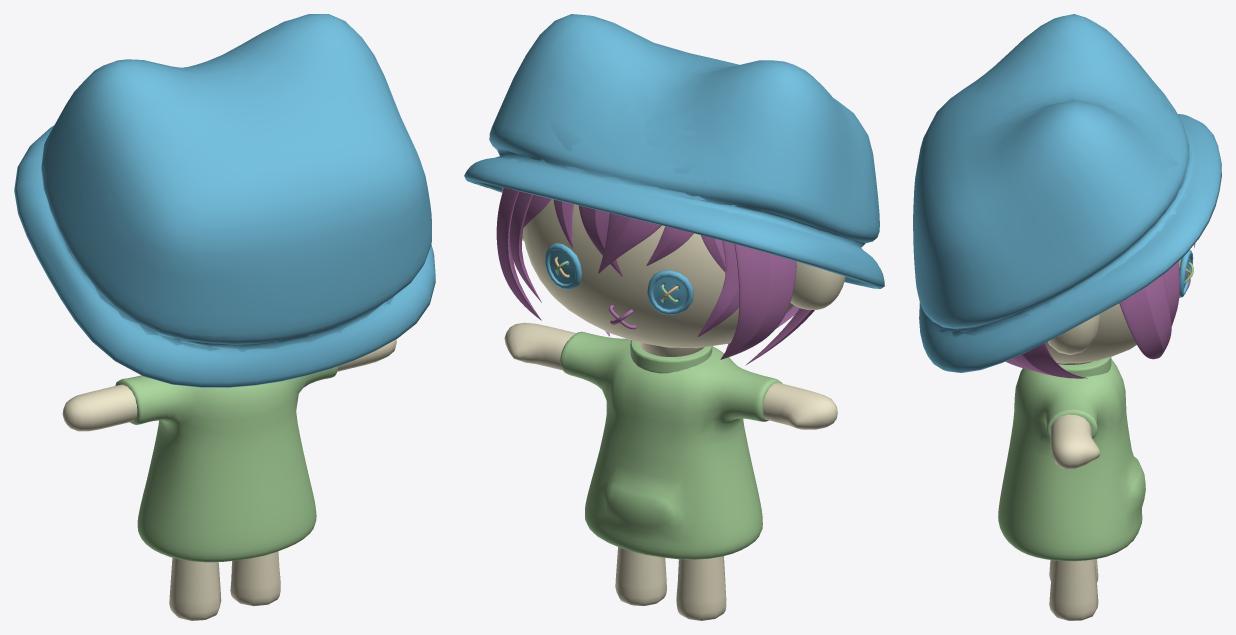
The picture shows the model from 3 angles, left to right: view 1: azimuth 30°, elevation 25°; view 2: azimuth 150°, elevation 25°; view 3: azimuth 270°, elevation 25°; orthographic projection. The views are drawn at different scales.
Parts seen in each view (by area): view 1: Retopo_Cube.005, Retopo_Cube.008, Retopo_Cube.001, Retopo_Cylinder.003, Retopo_Cube.002, Retopo_Cylinder.002, Retopo_Cube.007; view 2: Retopo_Cube.005, Retopo_Cube.008, Retopo_Cube, NurbsPath, Retopo_Cube.001, Retopo_Cylinder.003, Retopo_Cube.002, Retopo_Cylinder.002, Retopo_Cube.007, Cube.002, Plane.001, Retopo_Cylinder.004 (+2 smaller); view 3: Retopo_Cube.005, Retopo_Cube.008, Retopo_Cube.001, NurbsPath, Retopo_Cylinder.002, Retopo_Cube, Retopo_Cube.007, Cube.001, NurbsPath.001, Retopo_Cylinder.004, Plane.002.
Boxes of the visible parts, box(x1,y1,x2,y2) form: Retopo_Cube.005: box(14, 14, 435, 387); Retopo_Cube.008: box(115, 366, 338, 562); Retopo_Cube.001: box(54, 38, 408, 351); Retopo_Cylinder.003: box(169, 557, 221, 620); Retopo_Cube.002: box(62, 384, 137, 431); Retopo_Cylinder.002: box(230, 551, 280, 606); Retopo_Cube.007: box(337, 339, 396, 371); Retopo_Cube.005: box(464, 14, 884, 288); Retopo_Cube.008: box(560, 331, 782, 559); Retopo_Cube: box(523, 199, 794, 348); NurbsPath: box(496, 188, 796, 359); Retopo_Cube.001: box(467, 36, 878, 288); Retopo_Cylinder.003: box(676, 556, 726, 620); Retopo_Cube.002: box(763, 382, 837, 429); Retopo_Cylinder.002: box(615, 547, 666, 606); Retopo_Cube.007: box(504, 322, 576, 370); Cube.002: box(790, 261, 845, 309); Plane.001: box(647, 270, 693, 314); Retopo_Cylinder.004: box(630, 340, 712, 373); Retopo_Cube.005: box(913, 14, 1221, 372); Retopo_Cube.008: box(998, 359, 1145, 561); Retopo_Cube.001: box(925, 58, 1194, 337); NurbsPath: box(1119, 243, 1195, 359); Retopo_Cylinder.002: box(1049, 559, 1098, 620); Retopo_Cube: box(1046, 258, 1181, 363); Retopo_Cube.007: box(1050, 414, 1100, 469); Cube.001: box(1048, 297, 1100, 354); NurbsPath.001: box(1005, 343, 1087, 378); Retopo_Cylinder.004: box(1058, 357, 1111, 376); Plane.002: box(1179, 250, 1193, 297).
Bounding box in the file's own units: 2.79 × 4.25 × 2.23.
